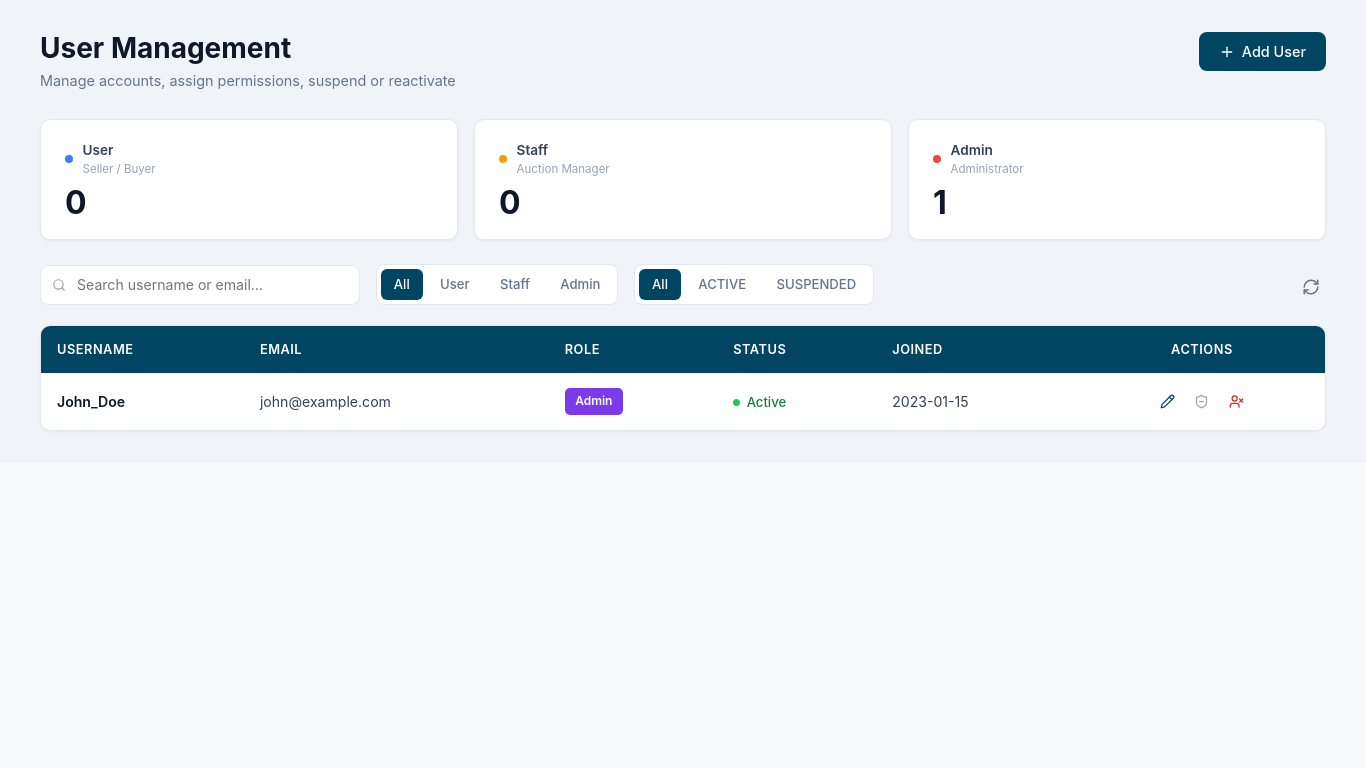
Test case: UserManagement Component › opens suspend modal for active user
Expected: the text "John_Doe" is shown, [57,393,125,410]
Step 1. Click the button titled "Suspend user" → click(1237, 401), box [1222,386,1252,416]
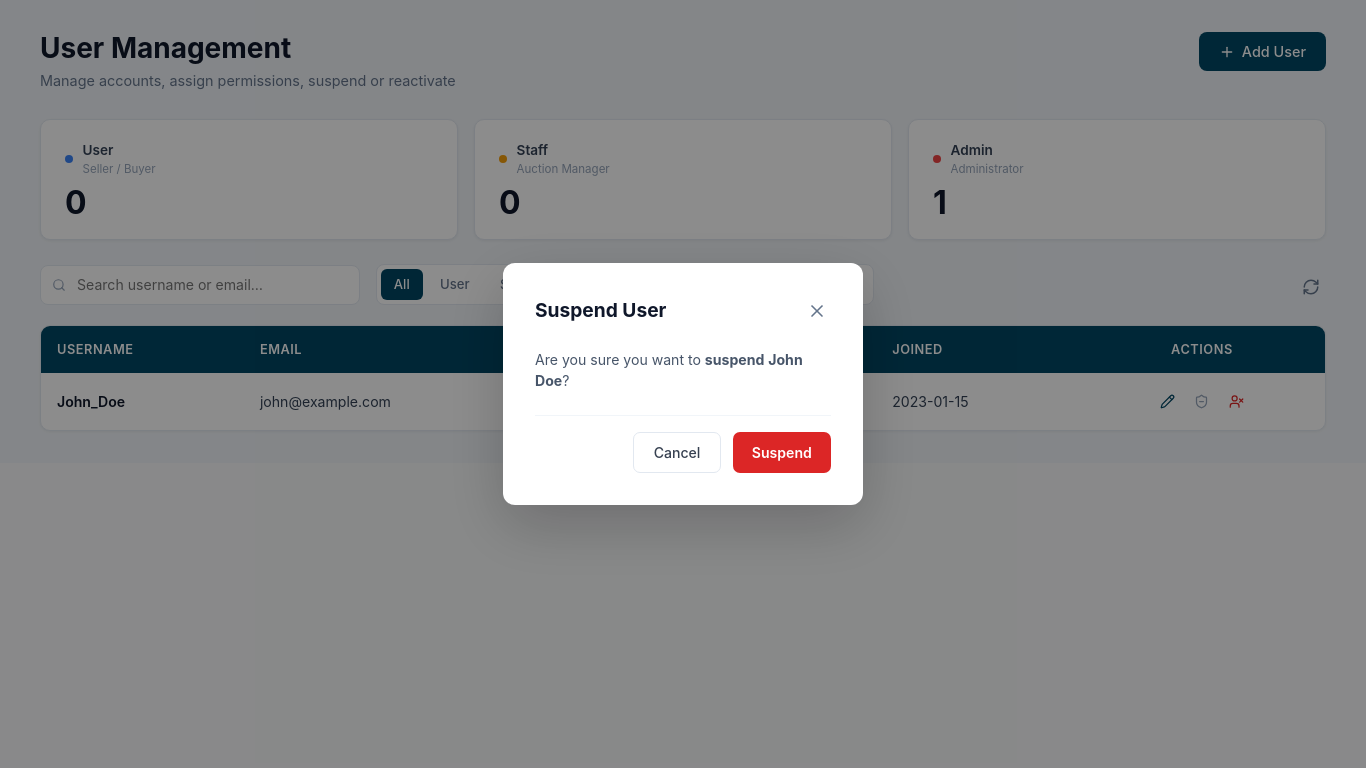
Now the heading "Suspend User" is shown, box [535,298,666,322]
